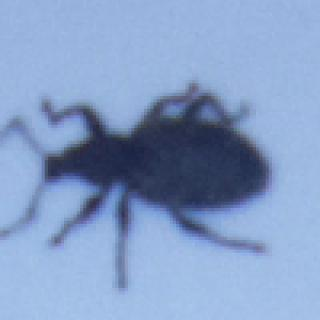bvw: (3, 80, 270, 290)
